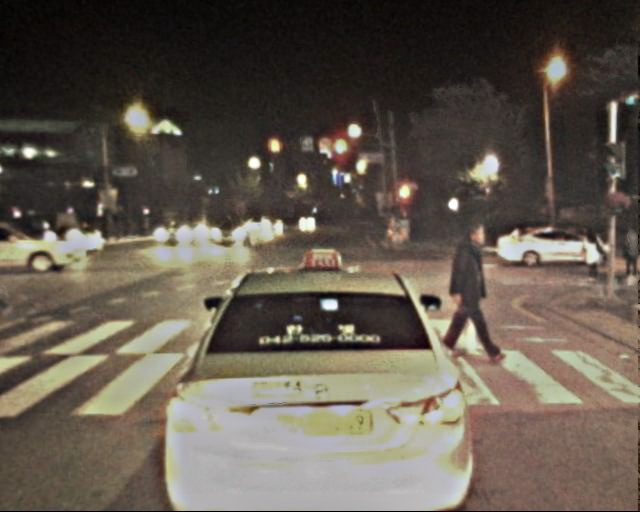person: (438, 224, 494, 361), (579, 227, 605, 290), (618, 226, 640, 284)
